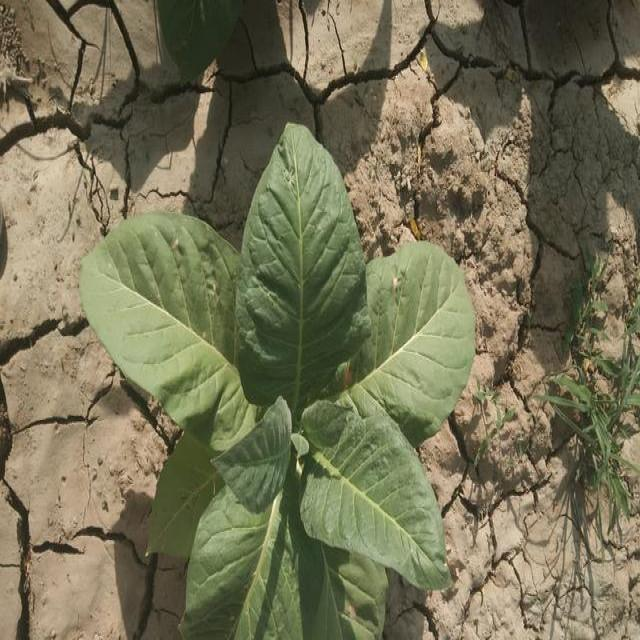crop: (76, 121, 478, 640)
